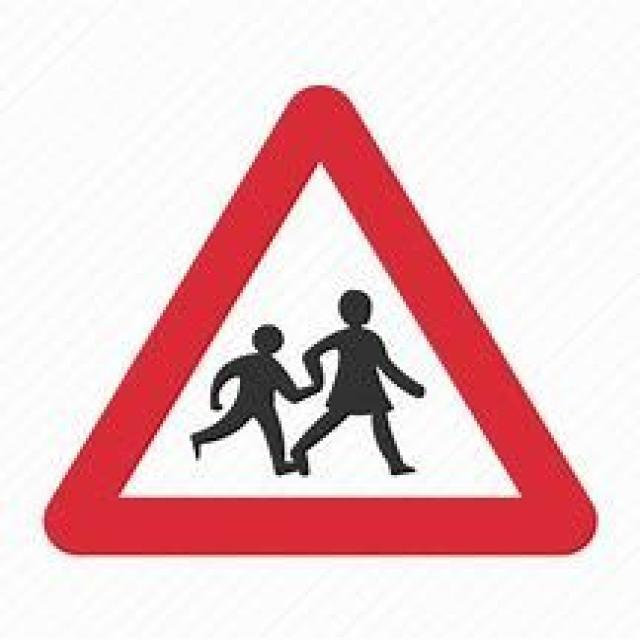school ahead: (41, 84, 594, 557)
